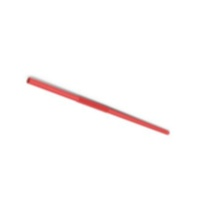drinking_straw: (21, 72, 175, 140)
